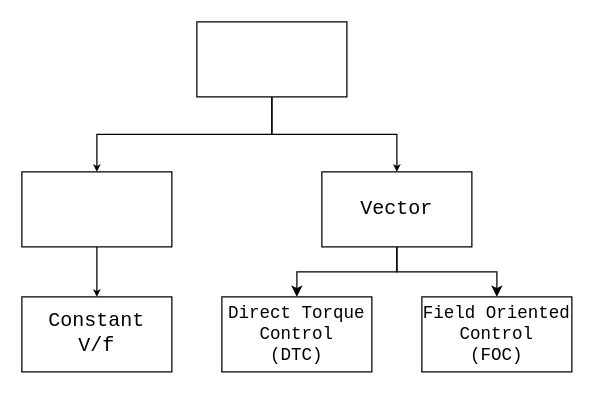
Image size: 594x394. Some labels were removed from this diagram. The shapes that lost their labels are listed below. From the top down, each one's box as (x1, y1, x2, y2) in pixels, then its label:
(196, 21, 347, 97): (VV)VFD w/ or w/o sensors
(21, 171, 172, 247): Scalar
